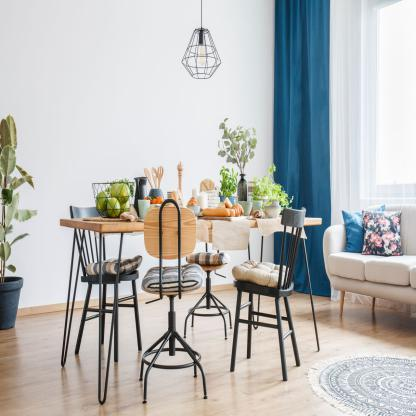chair: (135, 202, 211, 403), (230, 208, 314, 374), (64, 202, 144, 355), (187, 245, 231, 339)
light: (178, 4, 219, 83)
sofa: (321, 204, 416, 325)
table: (55, 209, 327, 409)
